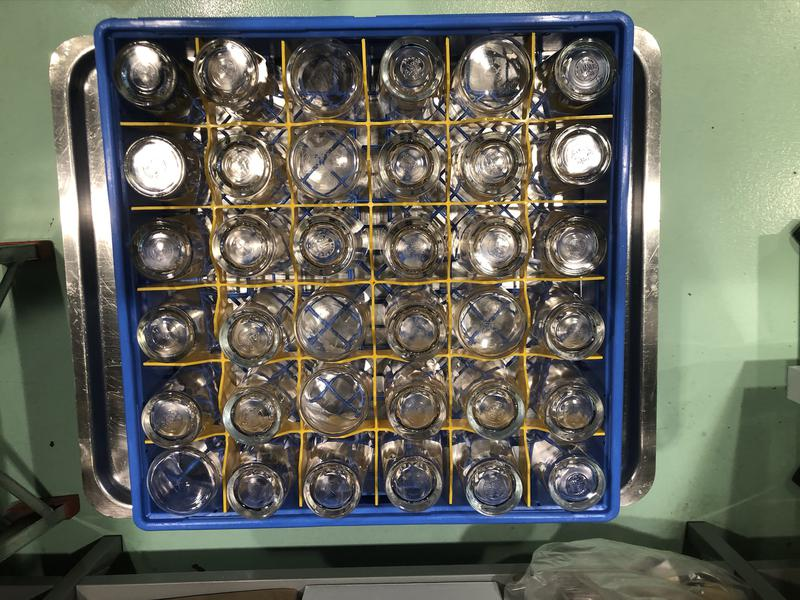Glass: (194, 34, 283, 123), (457, 35, 533, 123), (285, 37, 364, 120), (525, 282, 605, 358), (289, 124, 367, 201), (529, 358, 602, 439), (207, 131, 285, 206), (112, 41, 189, 115), (535, 123, 611, 197), (451, 441, 522, 520), (452, 212, 533, 280), (139, 376, 212, 450), (298, 444, 372, 517), (218, 289, 291, 363), (455, 360, 523, 439), (143, 448, 223, 515), (294, 212, 370, 282), (446, 132, 523, 201), (378, 35, 442, 116), (533, 439, 606, 510), (452, 286, 525, 357), (546, 36, 612, 114), (127, 220, 208, 283), (209, 213, 289, 276), (383, 360, 449, 436), (219, 368, 284, 445), (119, 139, 200, 200), (295, 292, 367, 360), (226, 445, 291, 519), (298, 366, 366, 436), (381, 437, 442, 515), (375, 131, 440, 204), (378, 208, 444, 278), (537, 210, 608, 275), (385, 287, 447, 361), (134, 297, 205, 360)
